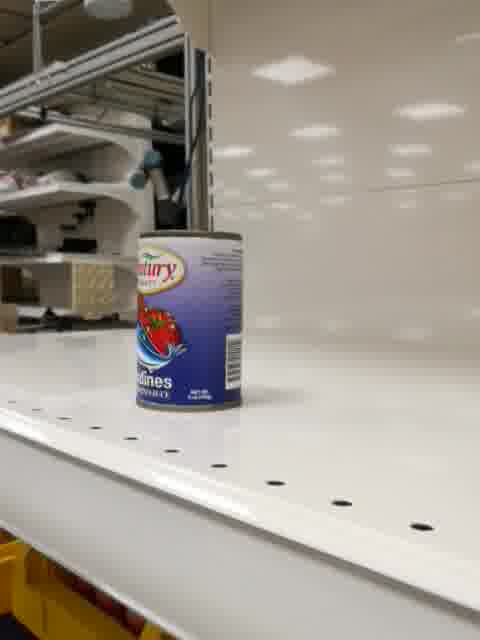sardine: (134, 228, 245, 414)
